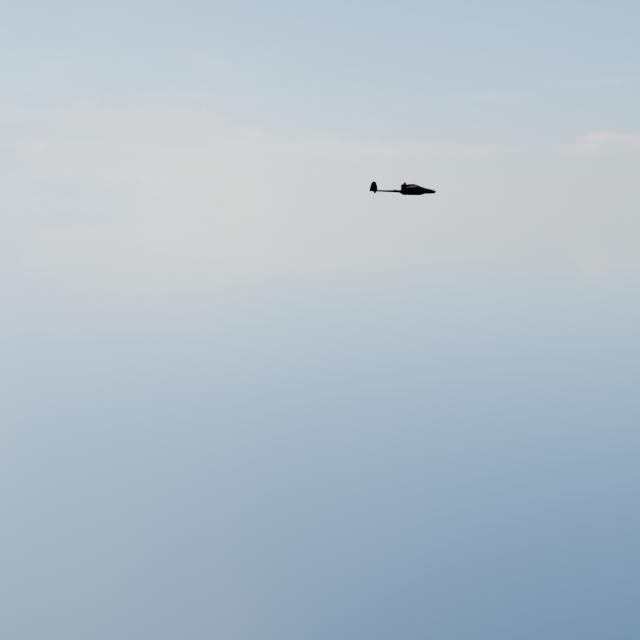Airaplan: (369, 181, 437, 195)
